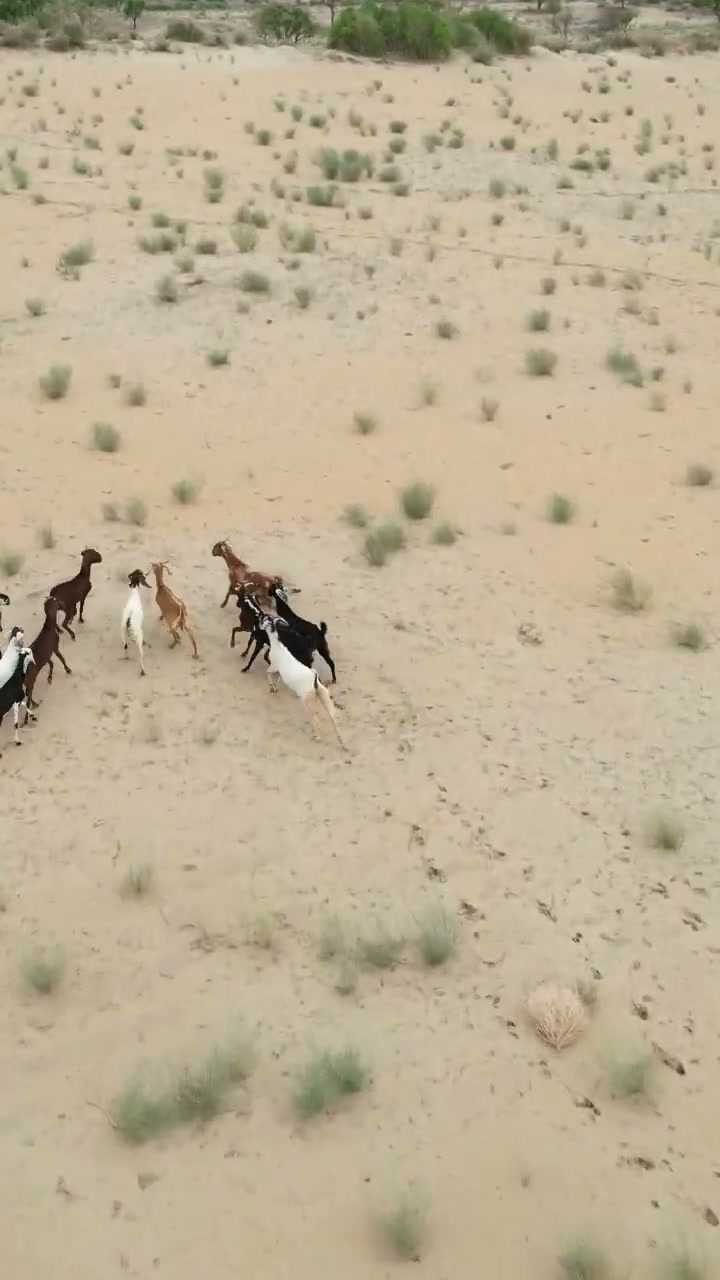animal_foot_print: (0, 671, 367, 925)
